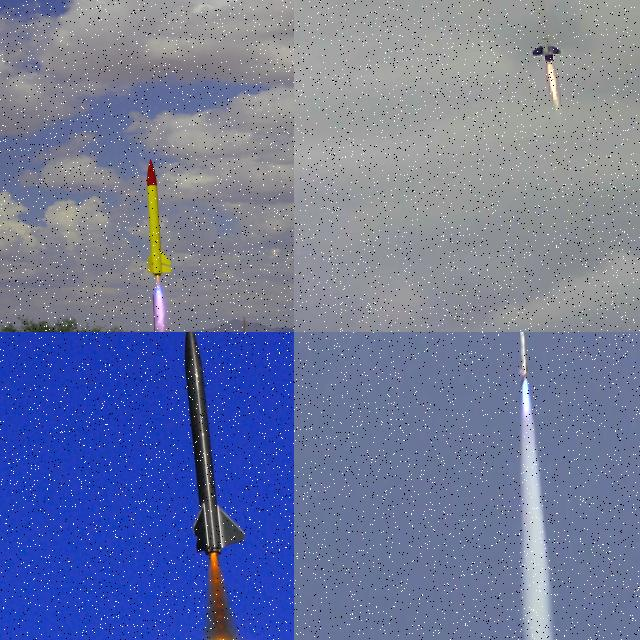Rocket: (182, 332, 248, 559), (146, 159, 172, 276), (519, 0, 561, 62), (519, 332, 530, 385)
